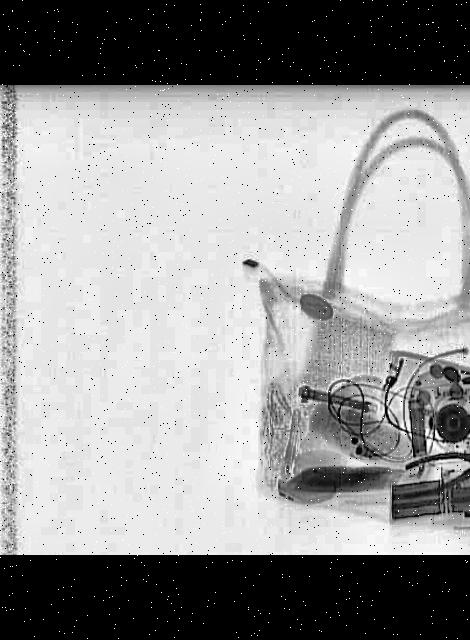Pliers: (390, 433, 470, 502)
